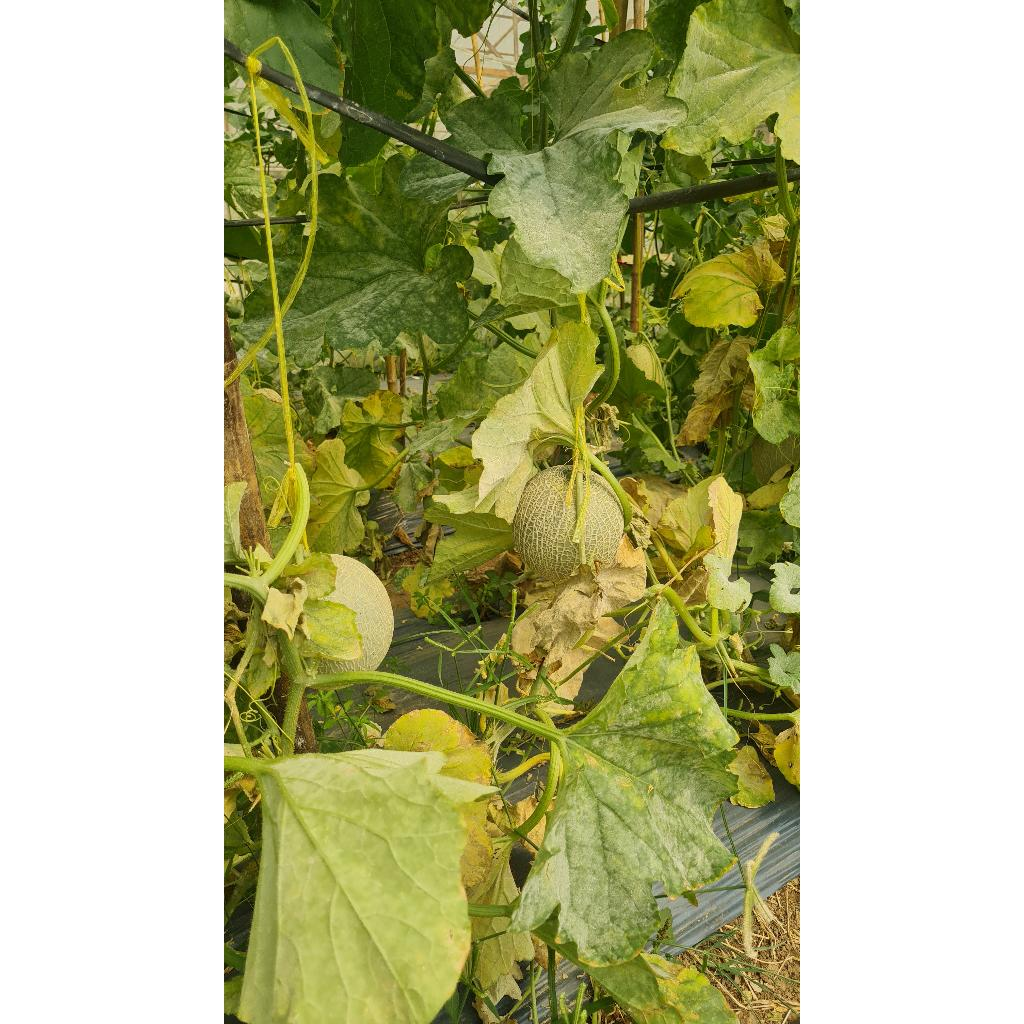melon: (320, 554, 394, 672), (512, 464, 580, 582), (584, 472, 624, 564)
